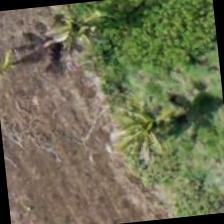Kelapa_Sawit: (90, 81, 188, 180)
